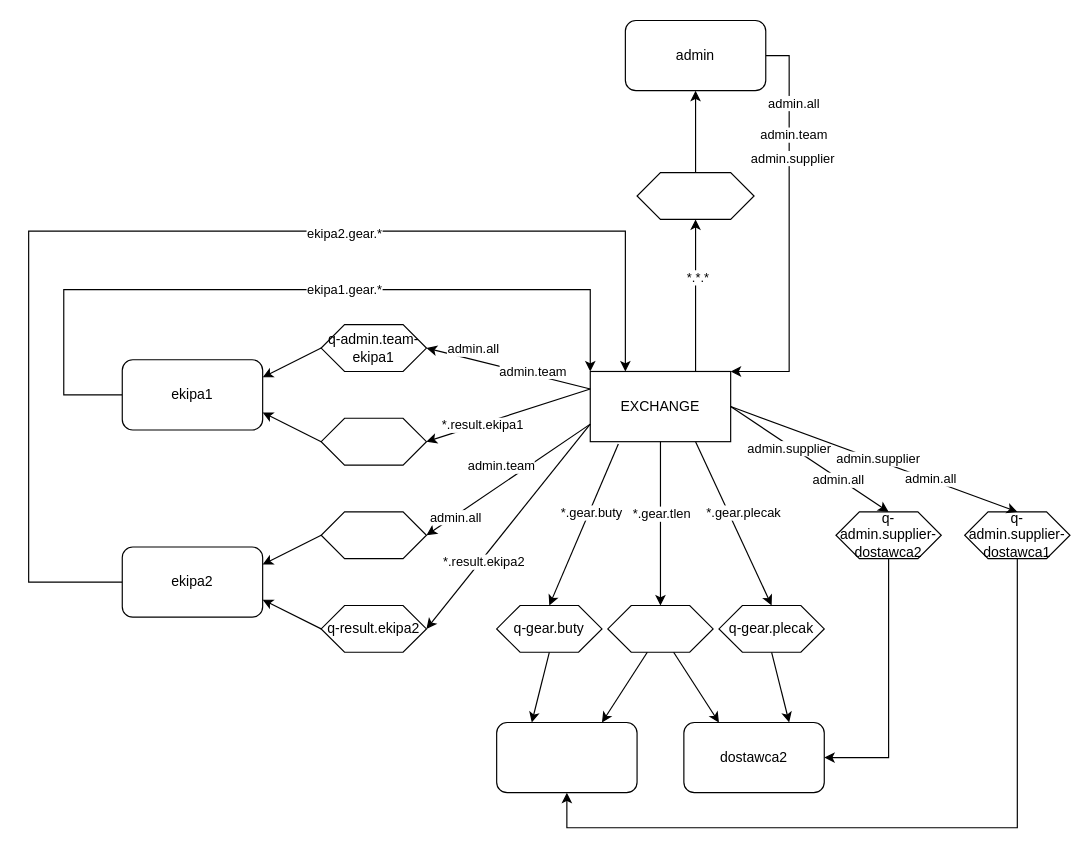
Some shapes in this 1090 by 858 pixel diagram are drawn without their labels. The shapes that lost their labels are listed below. From the top down, each one's centre as x and y in pixels, then its label:
the point at 695,195: admin-q
the point at 373,441: q-result.ekipa1
the point at 373,535: q-admin.team-ekipa2
the point at 660,628: q-gear.tlen
the point at 566,757: dostawca1
